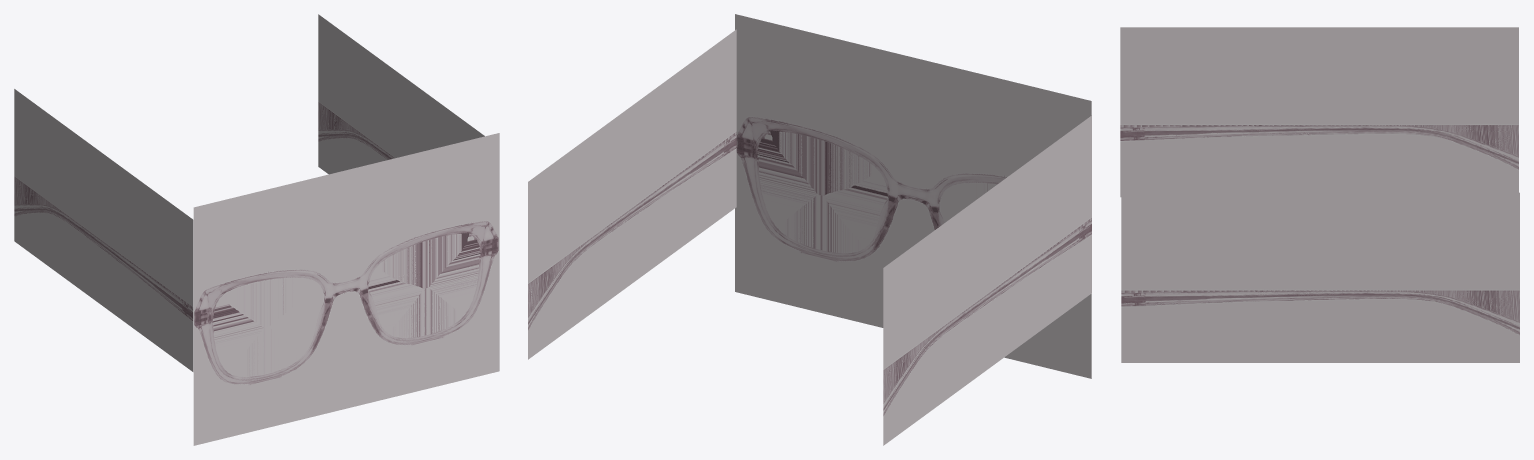
File: broadway-flex-20_f4.glb
The picture shows the model from 3 angles, left to right: view 1: azimuth 30°, elevation 25°; view 2: azimuth 150°, elevation 25°; view 3: azimuth 270°, elevation 25°; orthographic projection. The views are drawn at different scales.
Parts seen in each view (by area): view 1: Front, Right, Left; view 2: Front, Left, Right; view 3: Left, Right.
Part boxes in pixels (x1=…): Front: x1=193, y1=133, x2=499, y2=445; Right: x1=14, y1=89, x2=193, y2=371; Left: x1=318, y1=14, x2=484, y2=174; Front: x1=735, y1=14, x2=1091, y2=378; Left: x1=528, y1=29, x2=736, y2=359; Right: x1=883, y1=115, x2=1091, y2=445; Left: x1=1121, y1=192, x2=1519, y2=362; Right: x1=1120, y1=27, x2=1518, y2=197.
Size of the model in its own units: 147 by 109 by 149.
4 materials, 4 textured.
